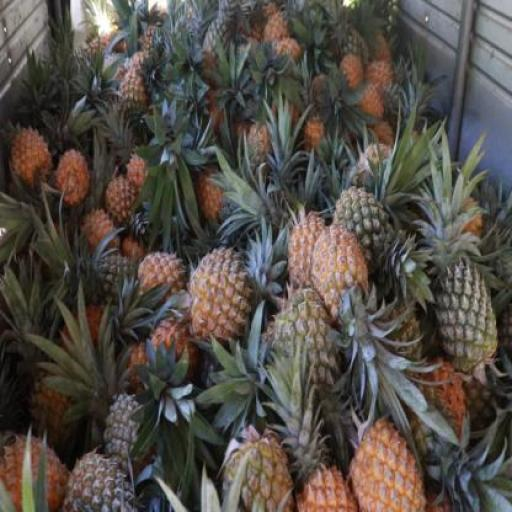------------------------------: (270, 293, 338, 393), (329, 188, 393, 287), (35, 376, 86, 452), (118, 71, 150, 130)
Pineapple - v8 v1: (346, 422, 424, 511), (309, 226, 370, 328), (190, 246, 253, 341), (0, 432, 69, 512), (286, 217, 336, 305), (146, 318, 194, 396), (136, 249, 179, 306), (10, 128, 49, 188), (106, 176, 144, 230), (56, 149, 88, 208)
